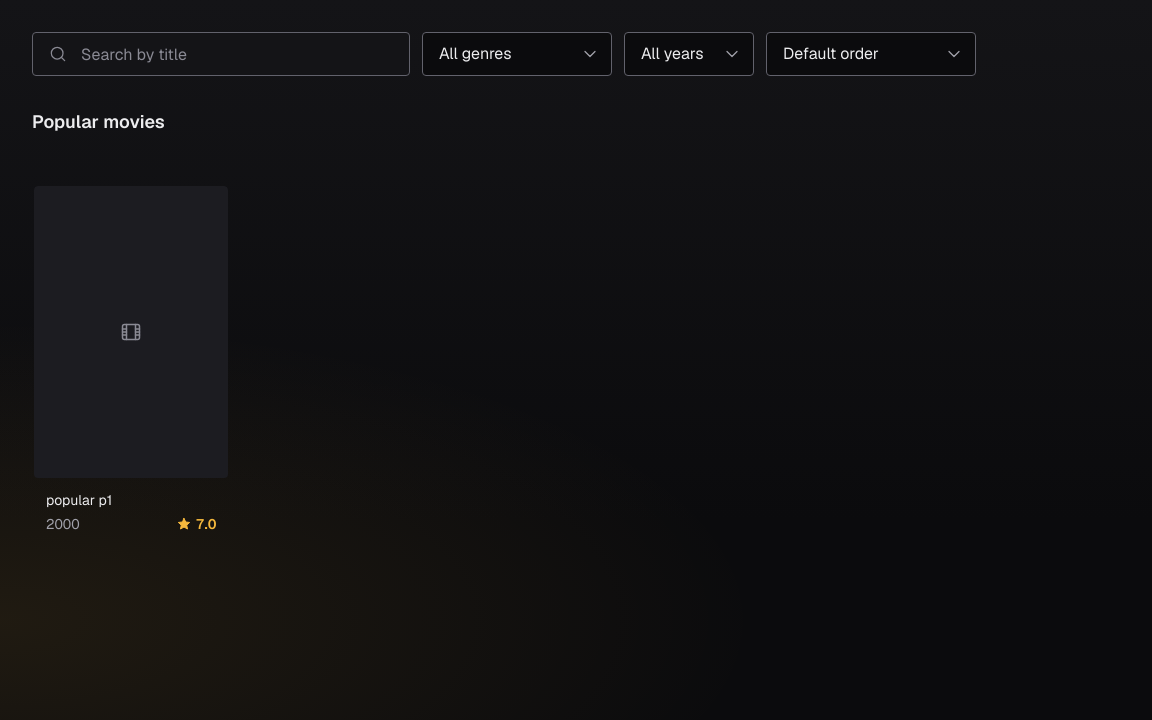
Test: ExplorerClient — announcement of the results (RF-22) › says the heading's text once a filter selection has loaded
Expected: the heading "popular p1" is shown, [46,491,112,509]
Select "Drama" in the 1st dropdown named "Genre". click: (517,54)
box: [422,32,612,76]
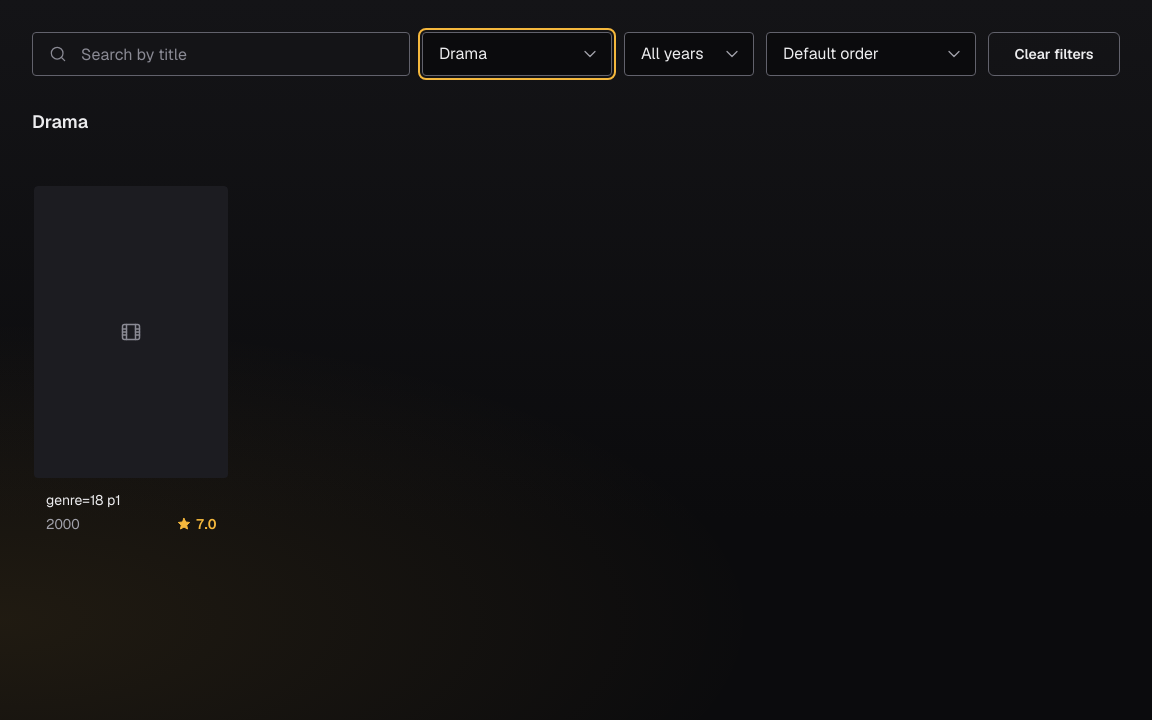
Expected: the heading "genre=18 p1" is shown, [46,491,121,509]
